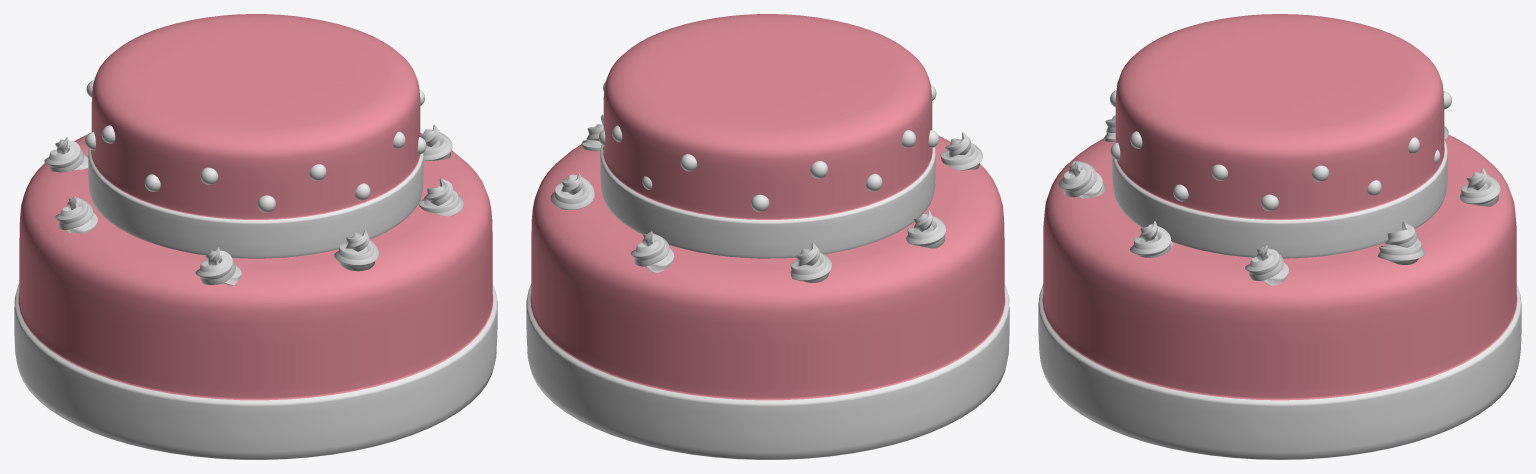
3 renders of one model, left to right at view 1: azimuth 30°, elevation 25°; view 2: azimuth 150°, elevation 25°; view 3: azimuth 270°, elevation 25°, orthographic.
Visible parts, largest first — view 1: Cake layer 1.001_30, Cake layer 1_29, Spiral.003_2, Spiral.007_6, Spiral.004_3, Spiral.005_4, Spiral.008_7, Spiral.000_8; view 2: Cake layer 1.001_30, Cake layer 1_29, Spiral.002_1, Spiral.006_5, Spiral.008_7, Spiral.007_6, Spiral.004_3; view 3: Cake layer 1.001_30, Cake layer 1_29, Spiral.006_5, Spiral.003_2, Spiral.000_8, Spiral.002_1, Spiral.005_4.
Boxes of the visible parts, x1,y1,x2,y2 form: Cake layer 1.001_30: (14,132,497,459); Cake layer 1_29: (88,14,423,258); Spiral.003_2: (334,230,378,271); Spiral.007_6: (195,247,241,285); Spiral.004_3: (55,195,97,233); Spiral.005_4: (418,177,463,216); Spiral.008_7: (44,137,88,172); Spiral.000_8: (420,124,452,160); Cake layer 1.001_30: (526,135,1009,459); Cake layer 1_29: (600,14,935,258); Spiral.002_1: (630,231,674,273); Spiral.006_5: (550,173,594,209); Spiral.008_7: (790,242,832,282); Spiral.007_6: (940,132,982,170); Spiral.004_3: (906,210,945,248); Cake layer 1.001_30: (1038,135,1521,459); Cake layer 1_29: (1112,14,1447,258); Spiral.006_5: (1377,220,1424,264); Spiral.003_2: (1058,161,1105,198); Spiral.000_8: (1245,245,1288,286); Spiral.002_1: (1460,168,1500,206); Spiral.005_4: (1129,221,1172,257).
Size of the model in its own units: 8.88 by 5.83 by 8.88.
